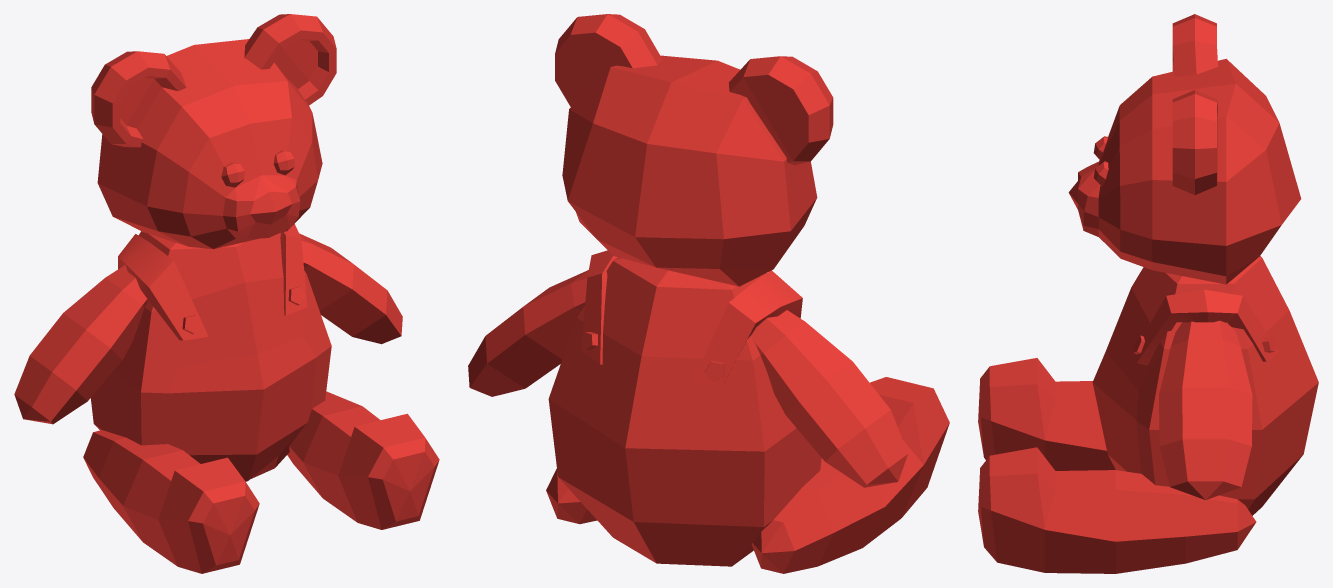
File: SM_Toy_Teddy_Bear_B.fbx
3 views of the same model, side by side, from view 1: azimuth 30°, elevation 25°; view 2: azimuth 150°, elevation 25°; view 3: azimuth 270°, elevation 25° (orthographic). The views are drawn at different scales.
Visible parts, largest first — view 1: toy-teddy-bear-b; view 2: toy-teddy-bear-b; view 3: toy-teddy-bear-b.
Boxes of the visible parts, x1=… form: toy-teddy-bear-b: x1=14, y1=14, x2=439, y2=573; toy-teddy-bear-b: x1=468, y1=14, x2=949, y2=573; toy-teddy-bear-b: x1=978, y1=14, x2=1318, y2=573.
Bounding box in the file's own units: 0.3136 × 0.3725 × 0.2447.
